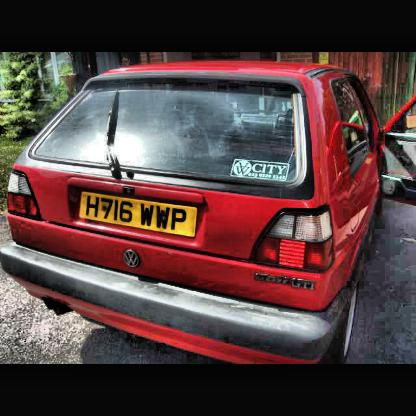Volkswagen Golf Hatchback 1991: (1, 62, 381, 364)
